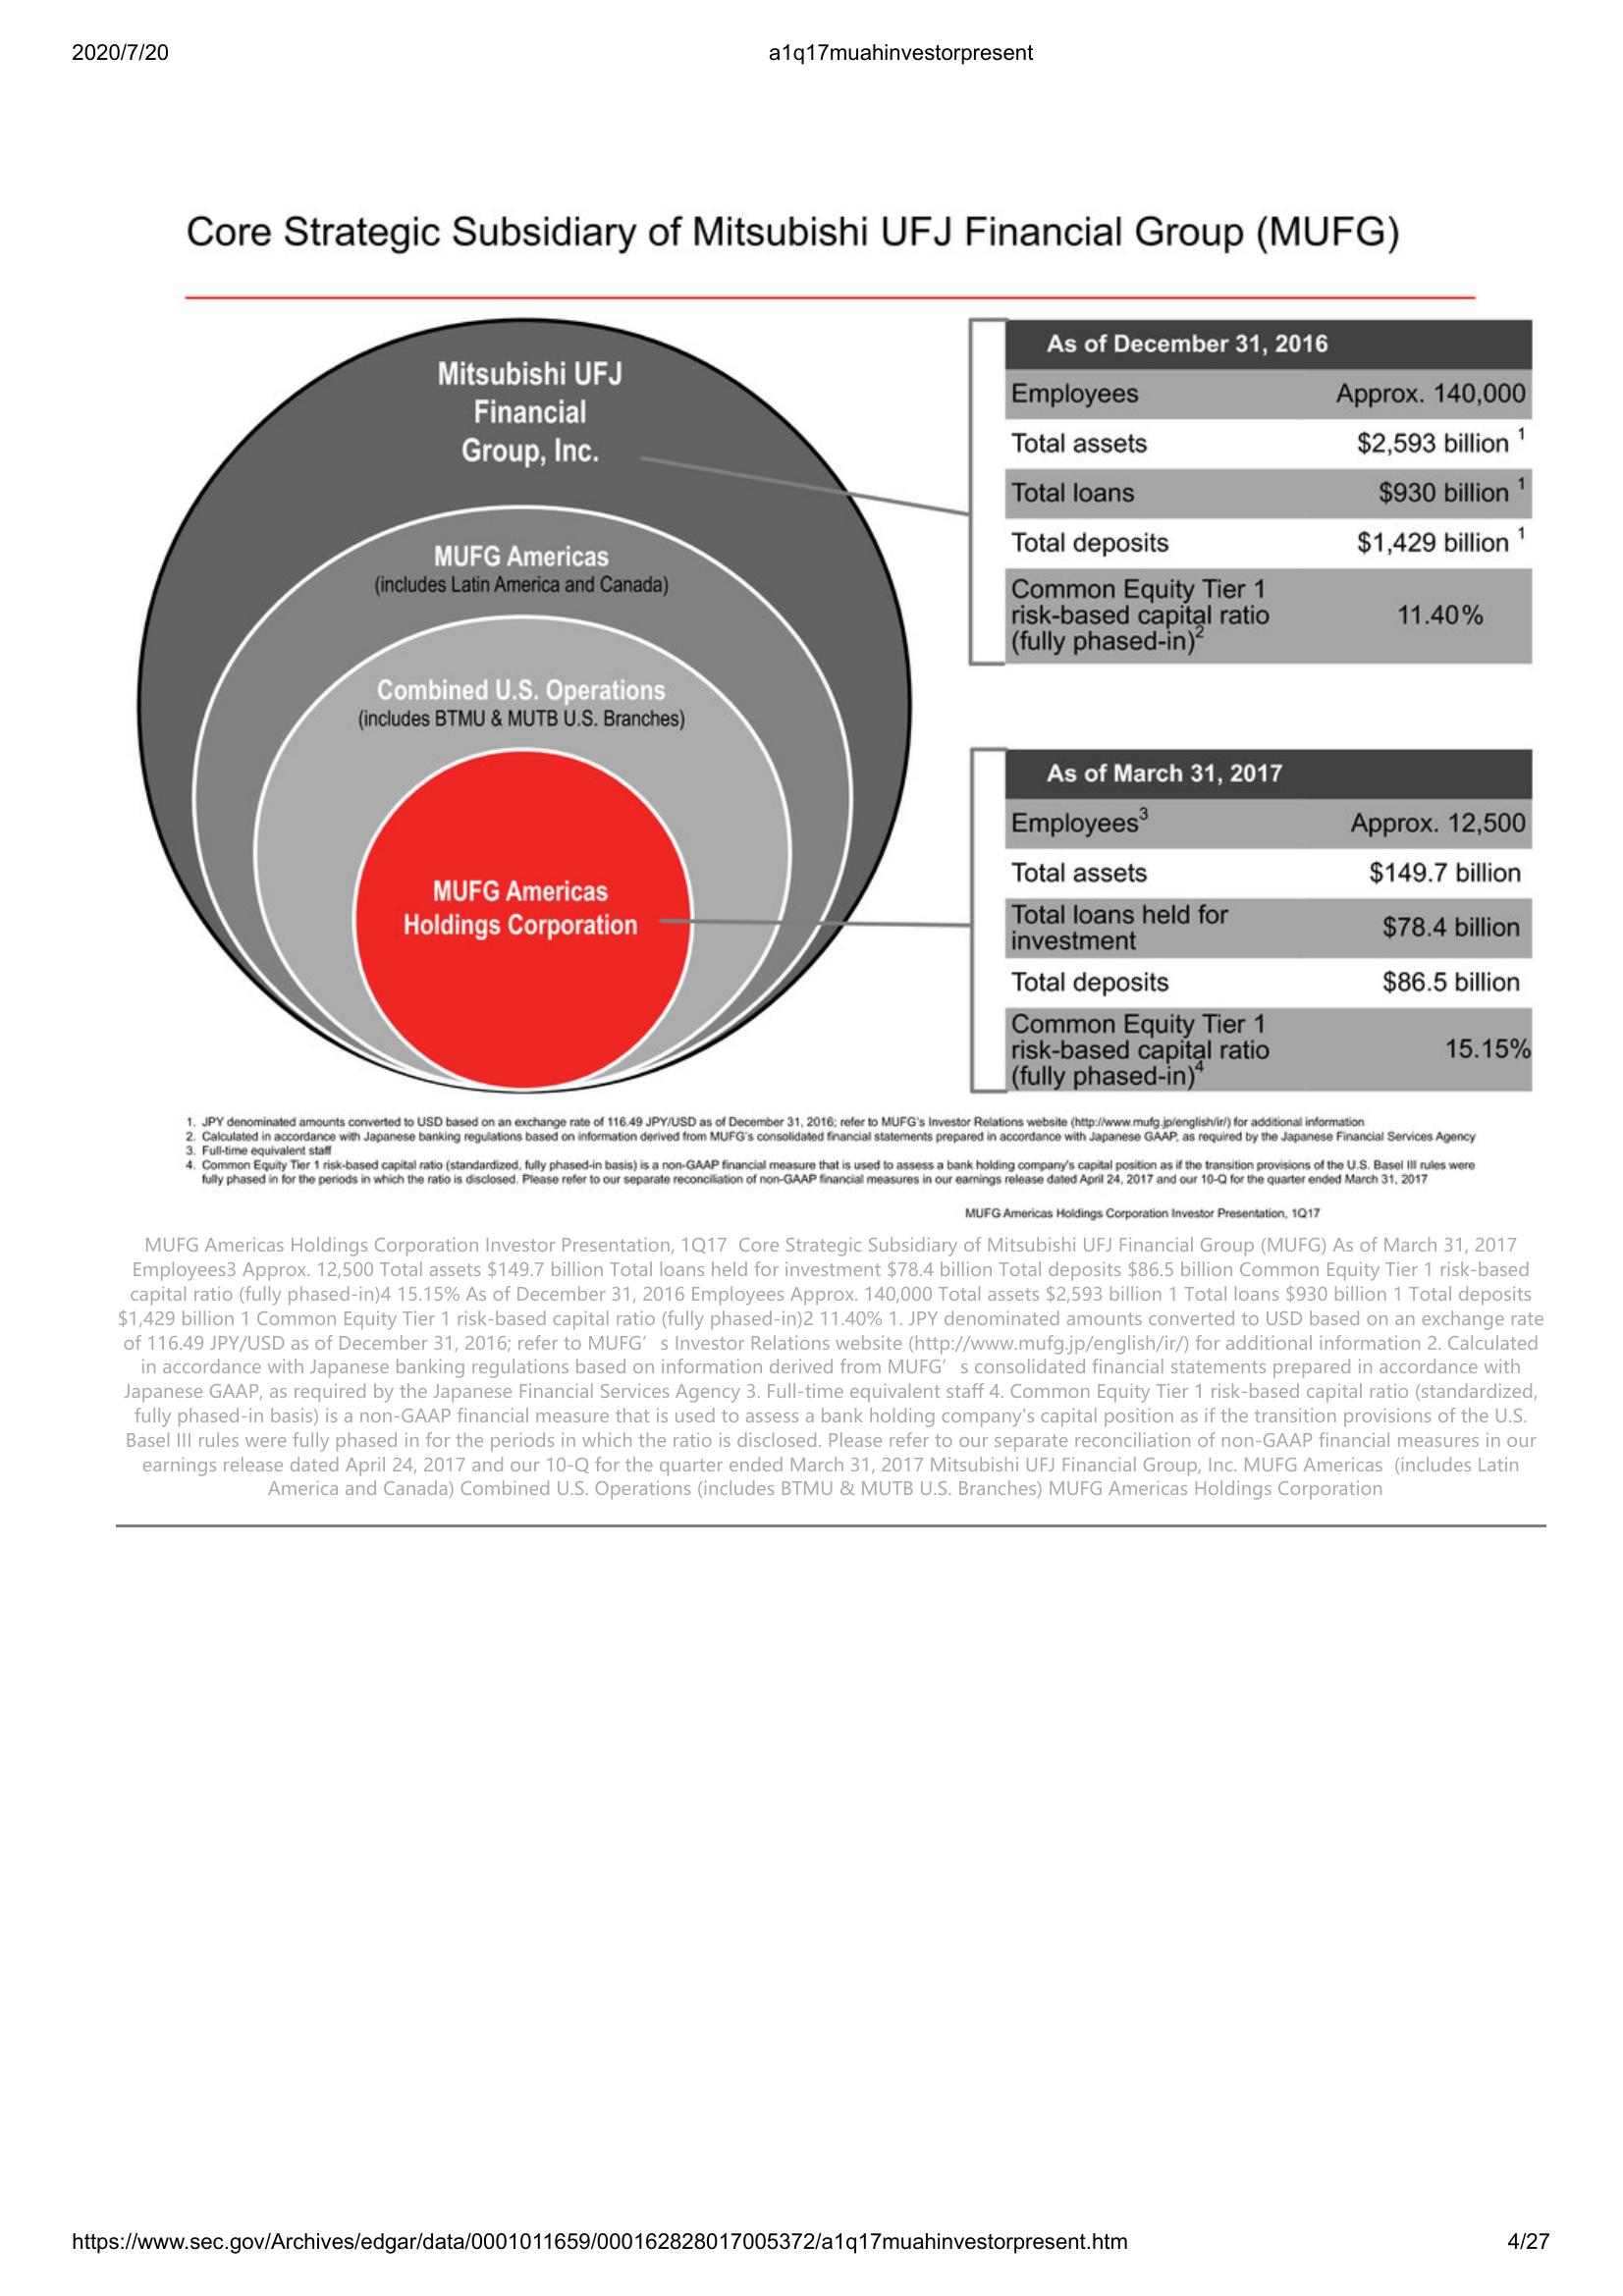table: (998, 741, 1540, 1101), (998, 309, 1539, 669)
